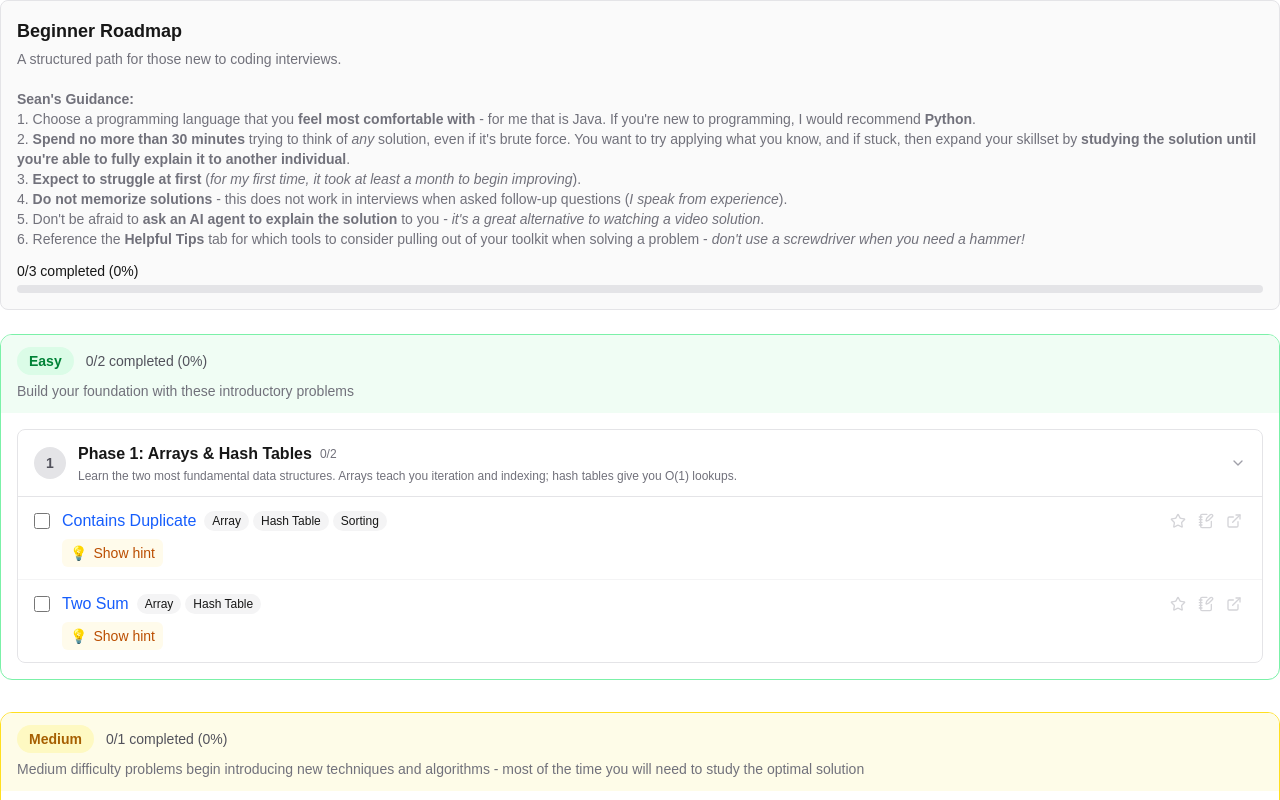
Test: RoadmapView › note modal keep editing returns to editor
Click the button titled "Add note" in the row of "Contains Duplicate".
click(1206, 521)  # box left=1194, top=509, right=1218, bottom=533
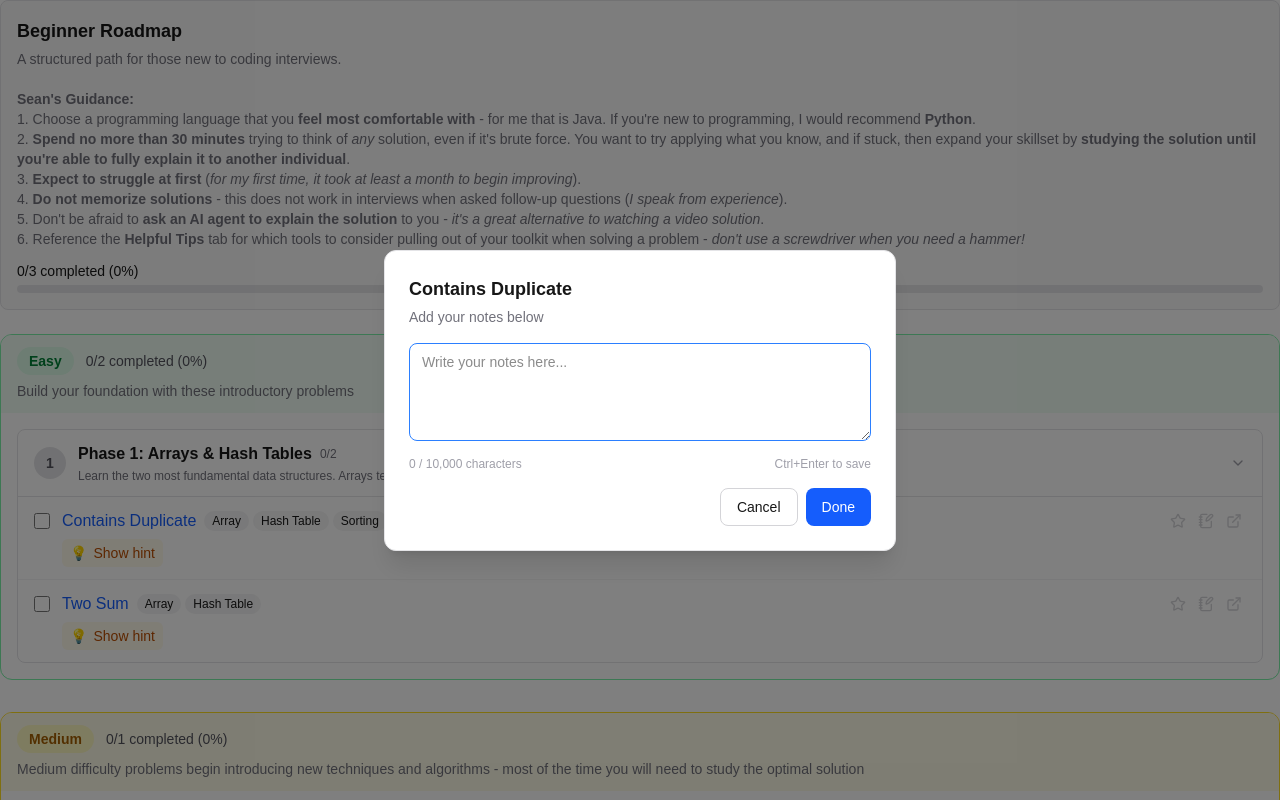
Type "keep this" into the text box with placeholder "Write your notes here...".
click(640, 392); type("keep this")  # box left=409, top=342, right=871, bottom=440
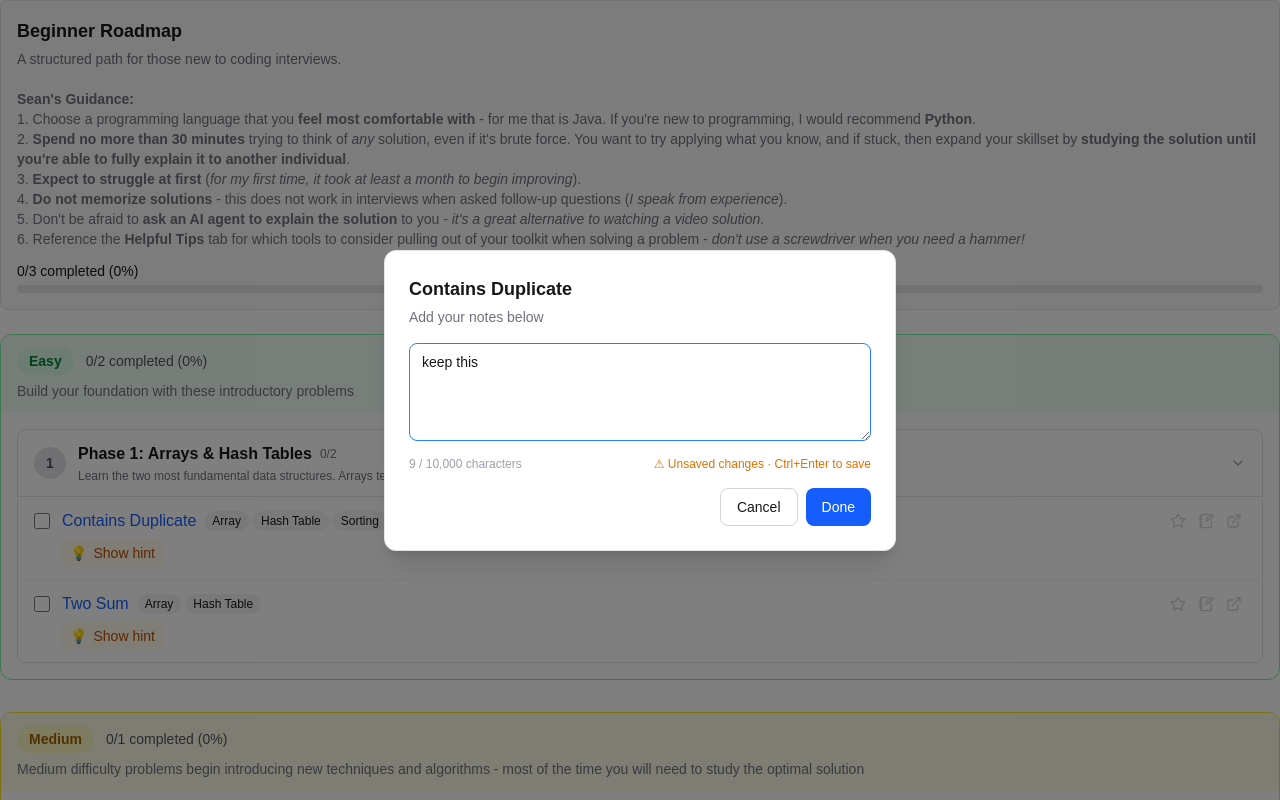
Click the button "Cancel".
click(759, 506)  # box left=720, top=488, right=798, bottom=526
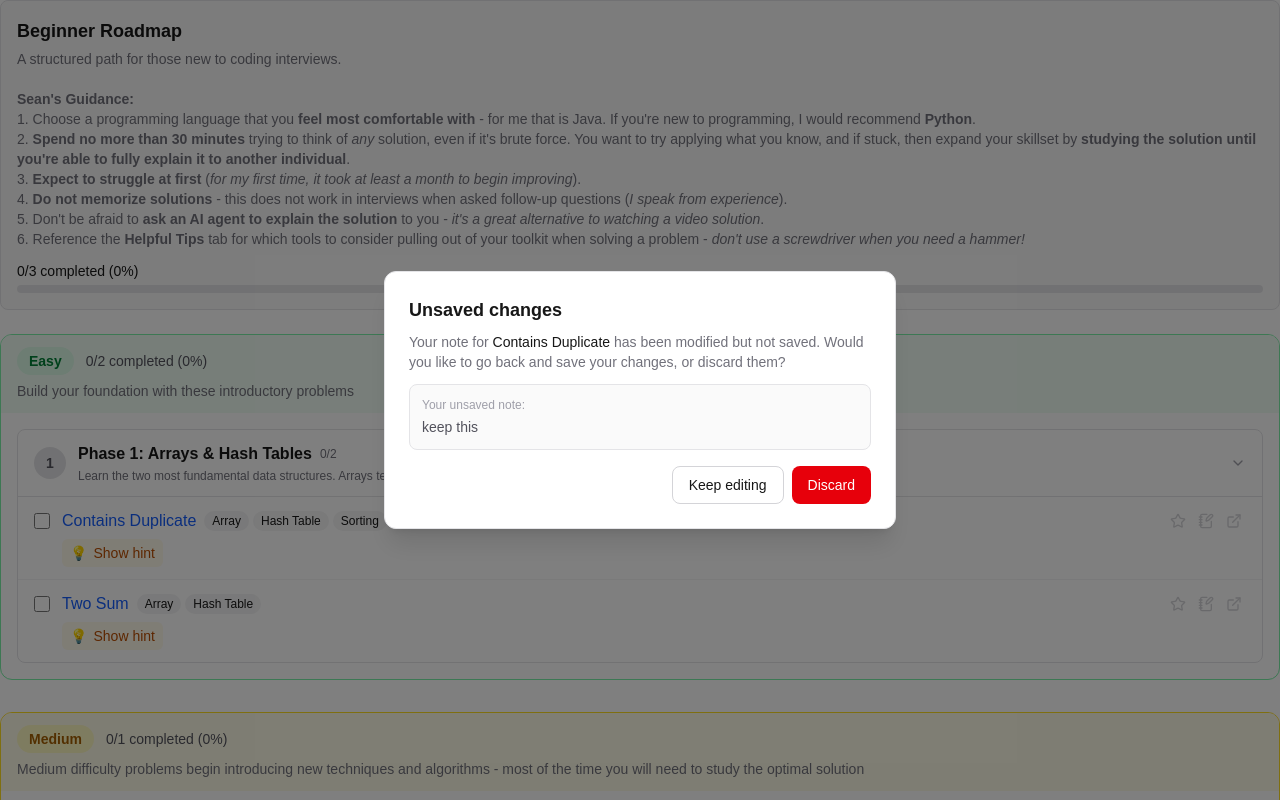
Click the button "Keep editing".
click(728, 485)  # box left=672, top=466, right=784, bottom=504
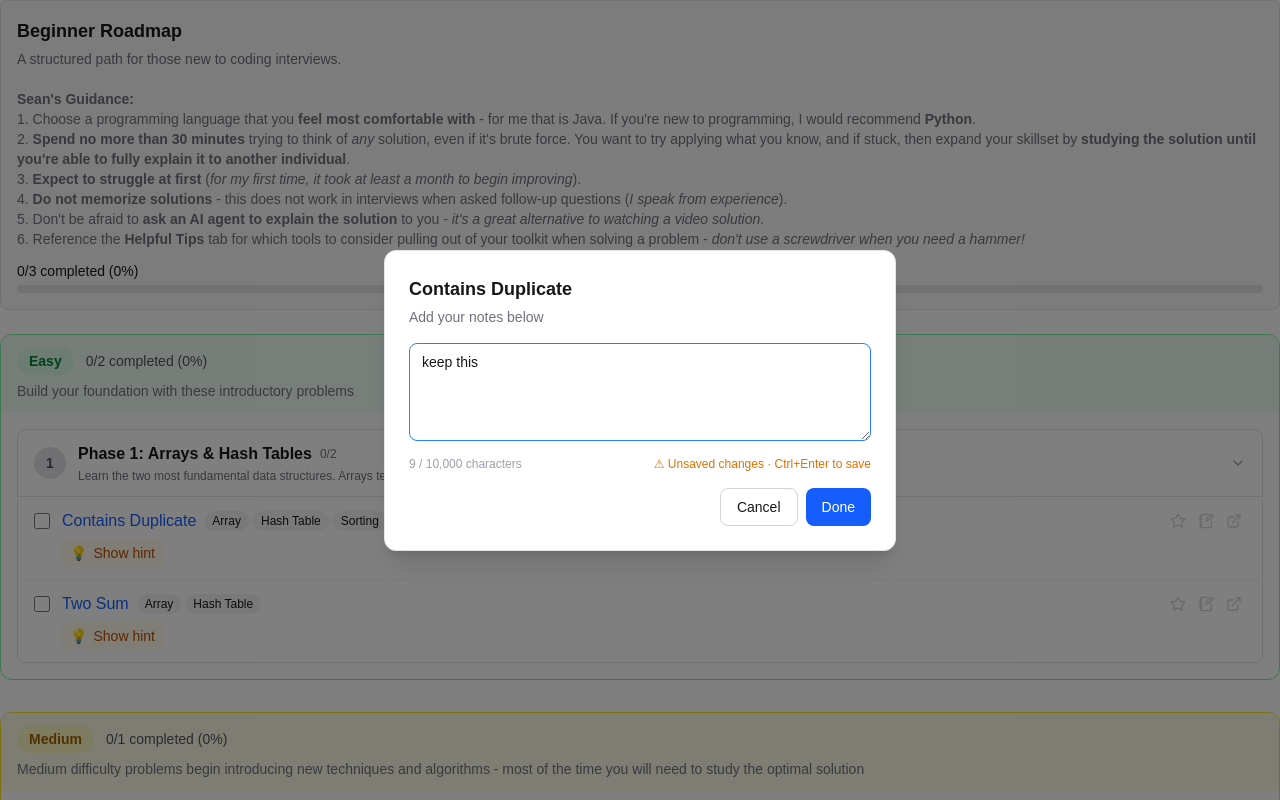
Expected: the text box with placeholder "Write your notes here..." holds "keep this", left=409, top=342, right=871, bottom=440
